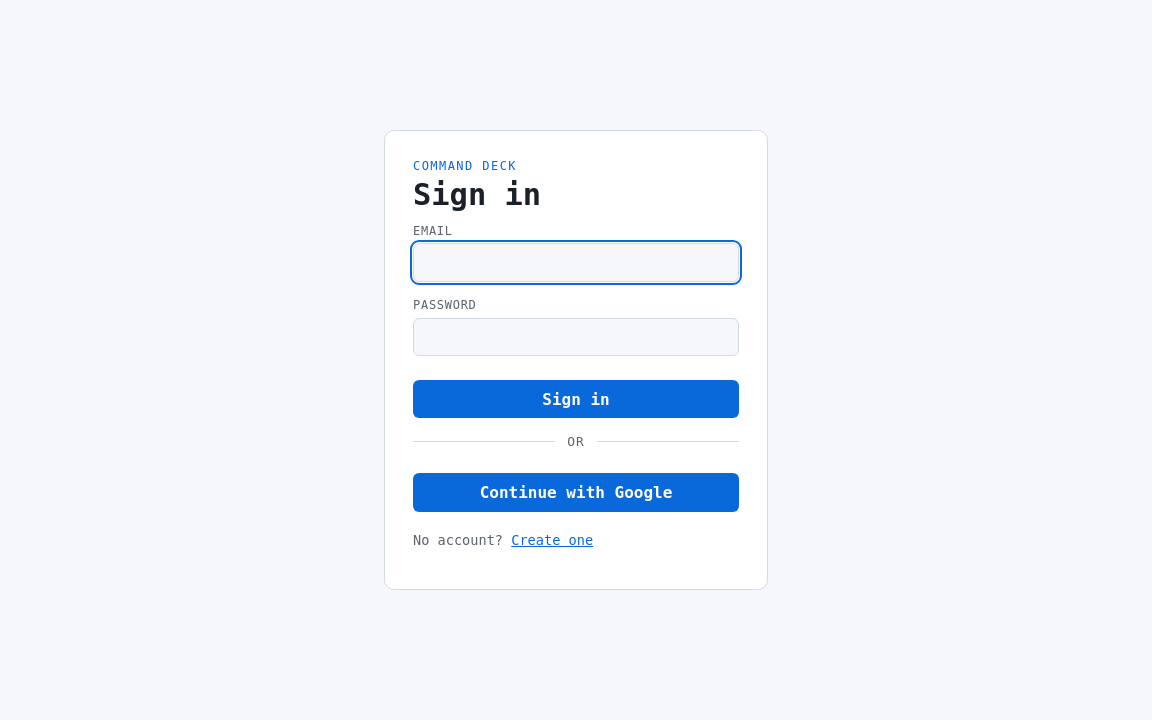
Test: web-deck auth flow › signs in and lands on the command deck
Type "ada@example.com" into the field labelled "Email" at (576, 263), box [413,243,739,282]
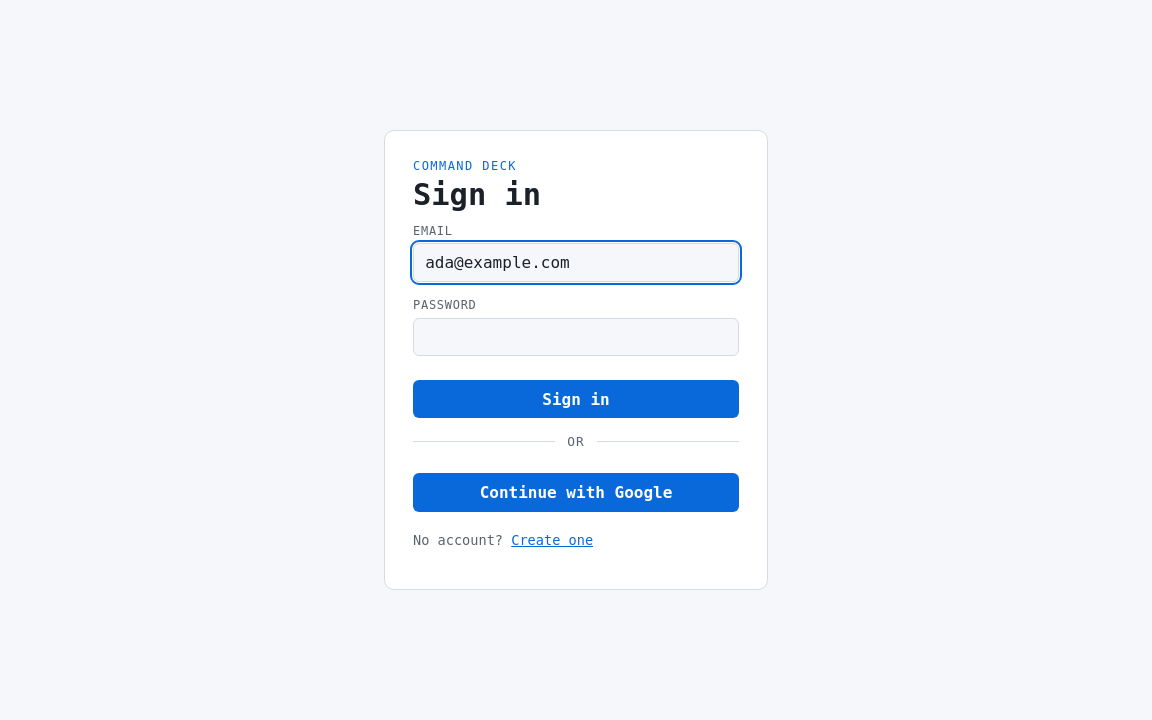
Type "correct-horse" into the password field labelled "Password" at (576, 337), box [413,318,739,356]
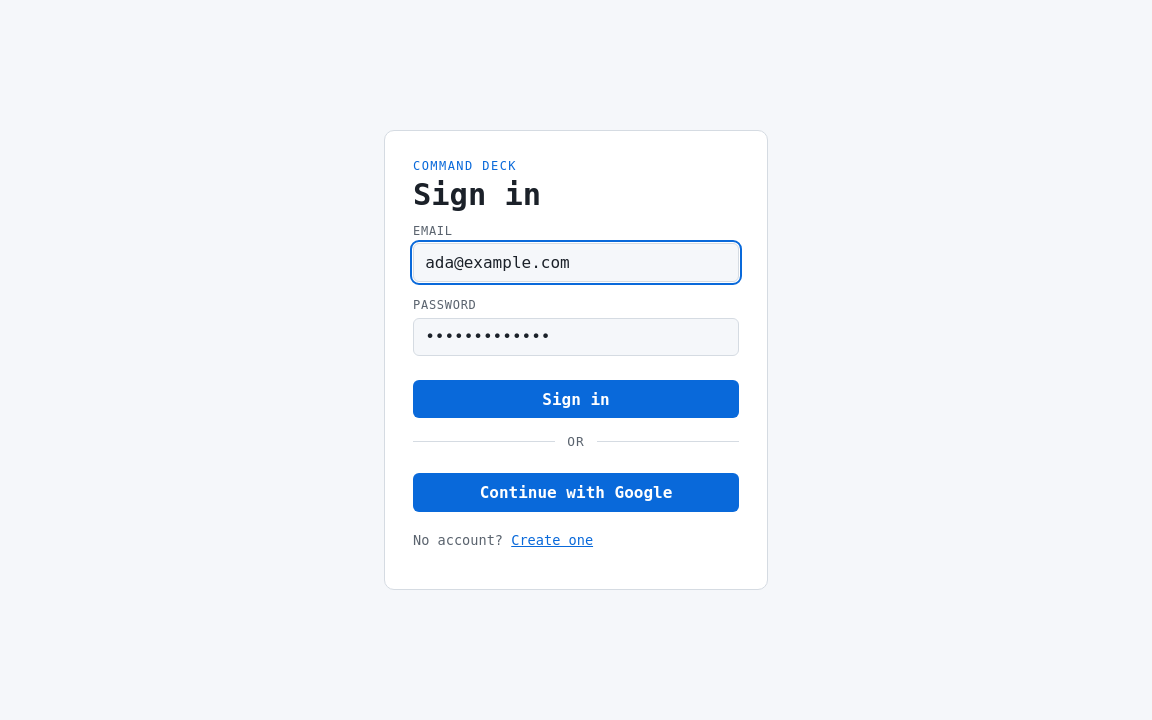
Click the button "Sign in" at (576, 399), box [413,380,739,418]
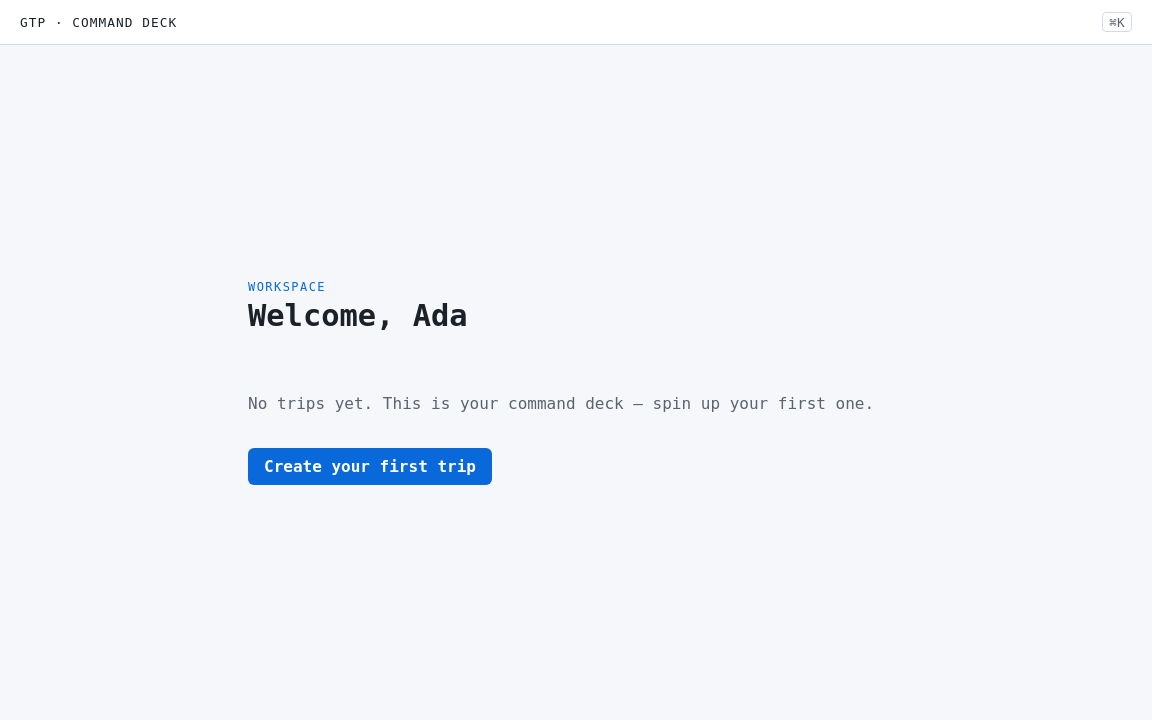
Expected: the heading "Welcome, Ada" is shown, [248,298,468,333]
Expected: the text "GTP · COMMAND DECK" is shown, [20,15,177,30]
Expected: the button "Create your first trip" is shown, [248,448,492,485]
